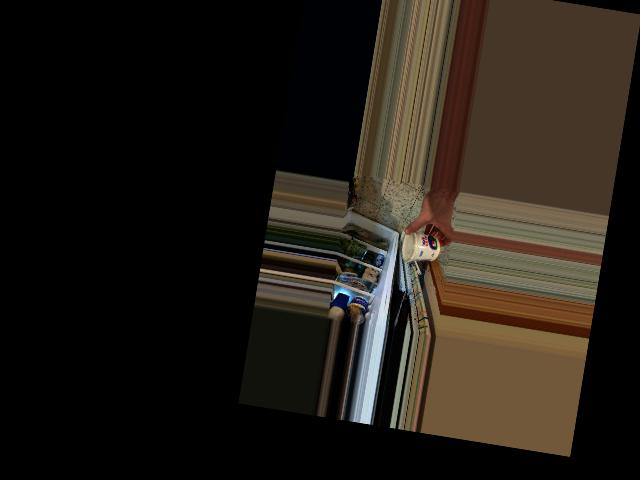cotage: (398, 227, 446, 267)
